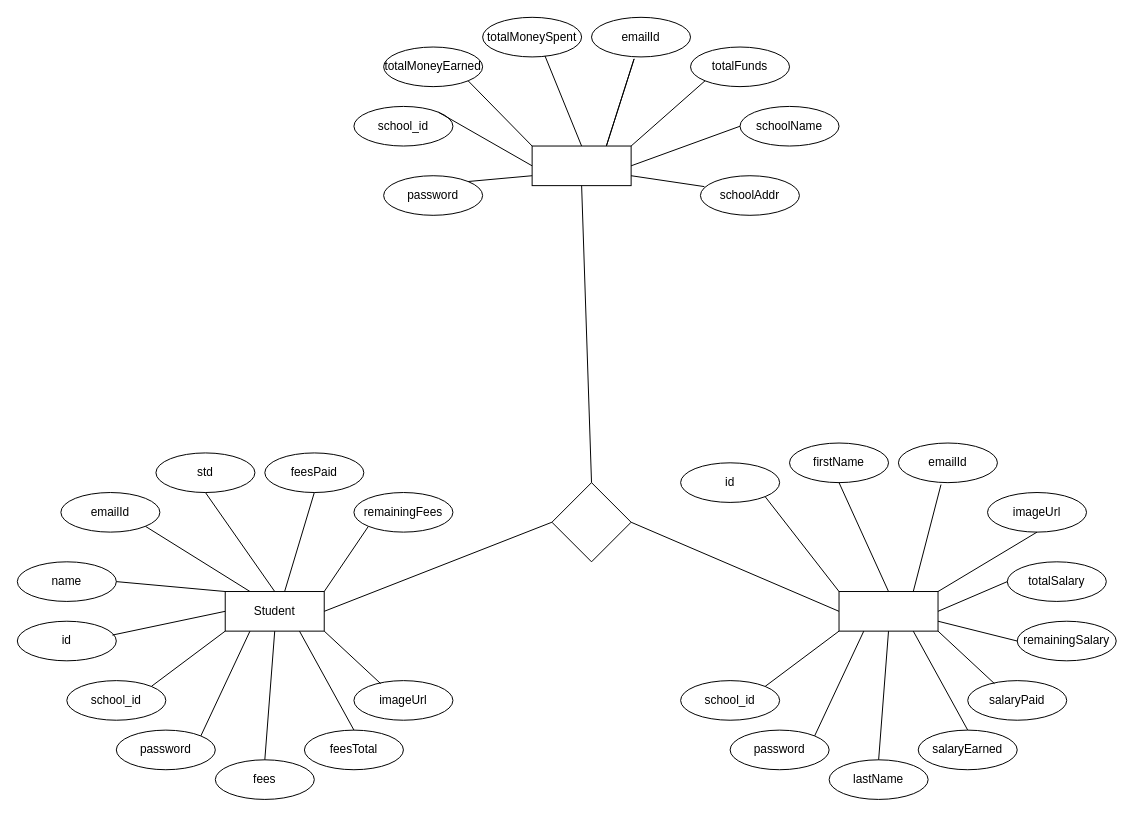
Some shapes in this 1134 by 817 pixel diagram are drawn without their labels. Each missing label, with the centre of its shape:
"has" belongs at point 591,522.
"School" belongs at point 581,165.
"Teacher" belongs at point 888,611.
